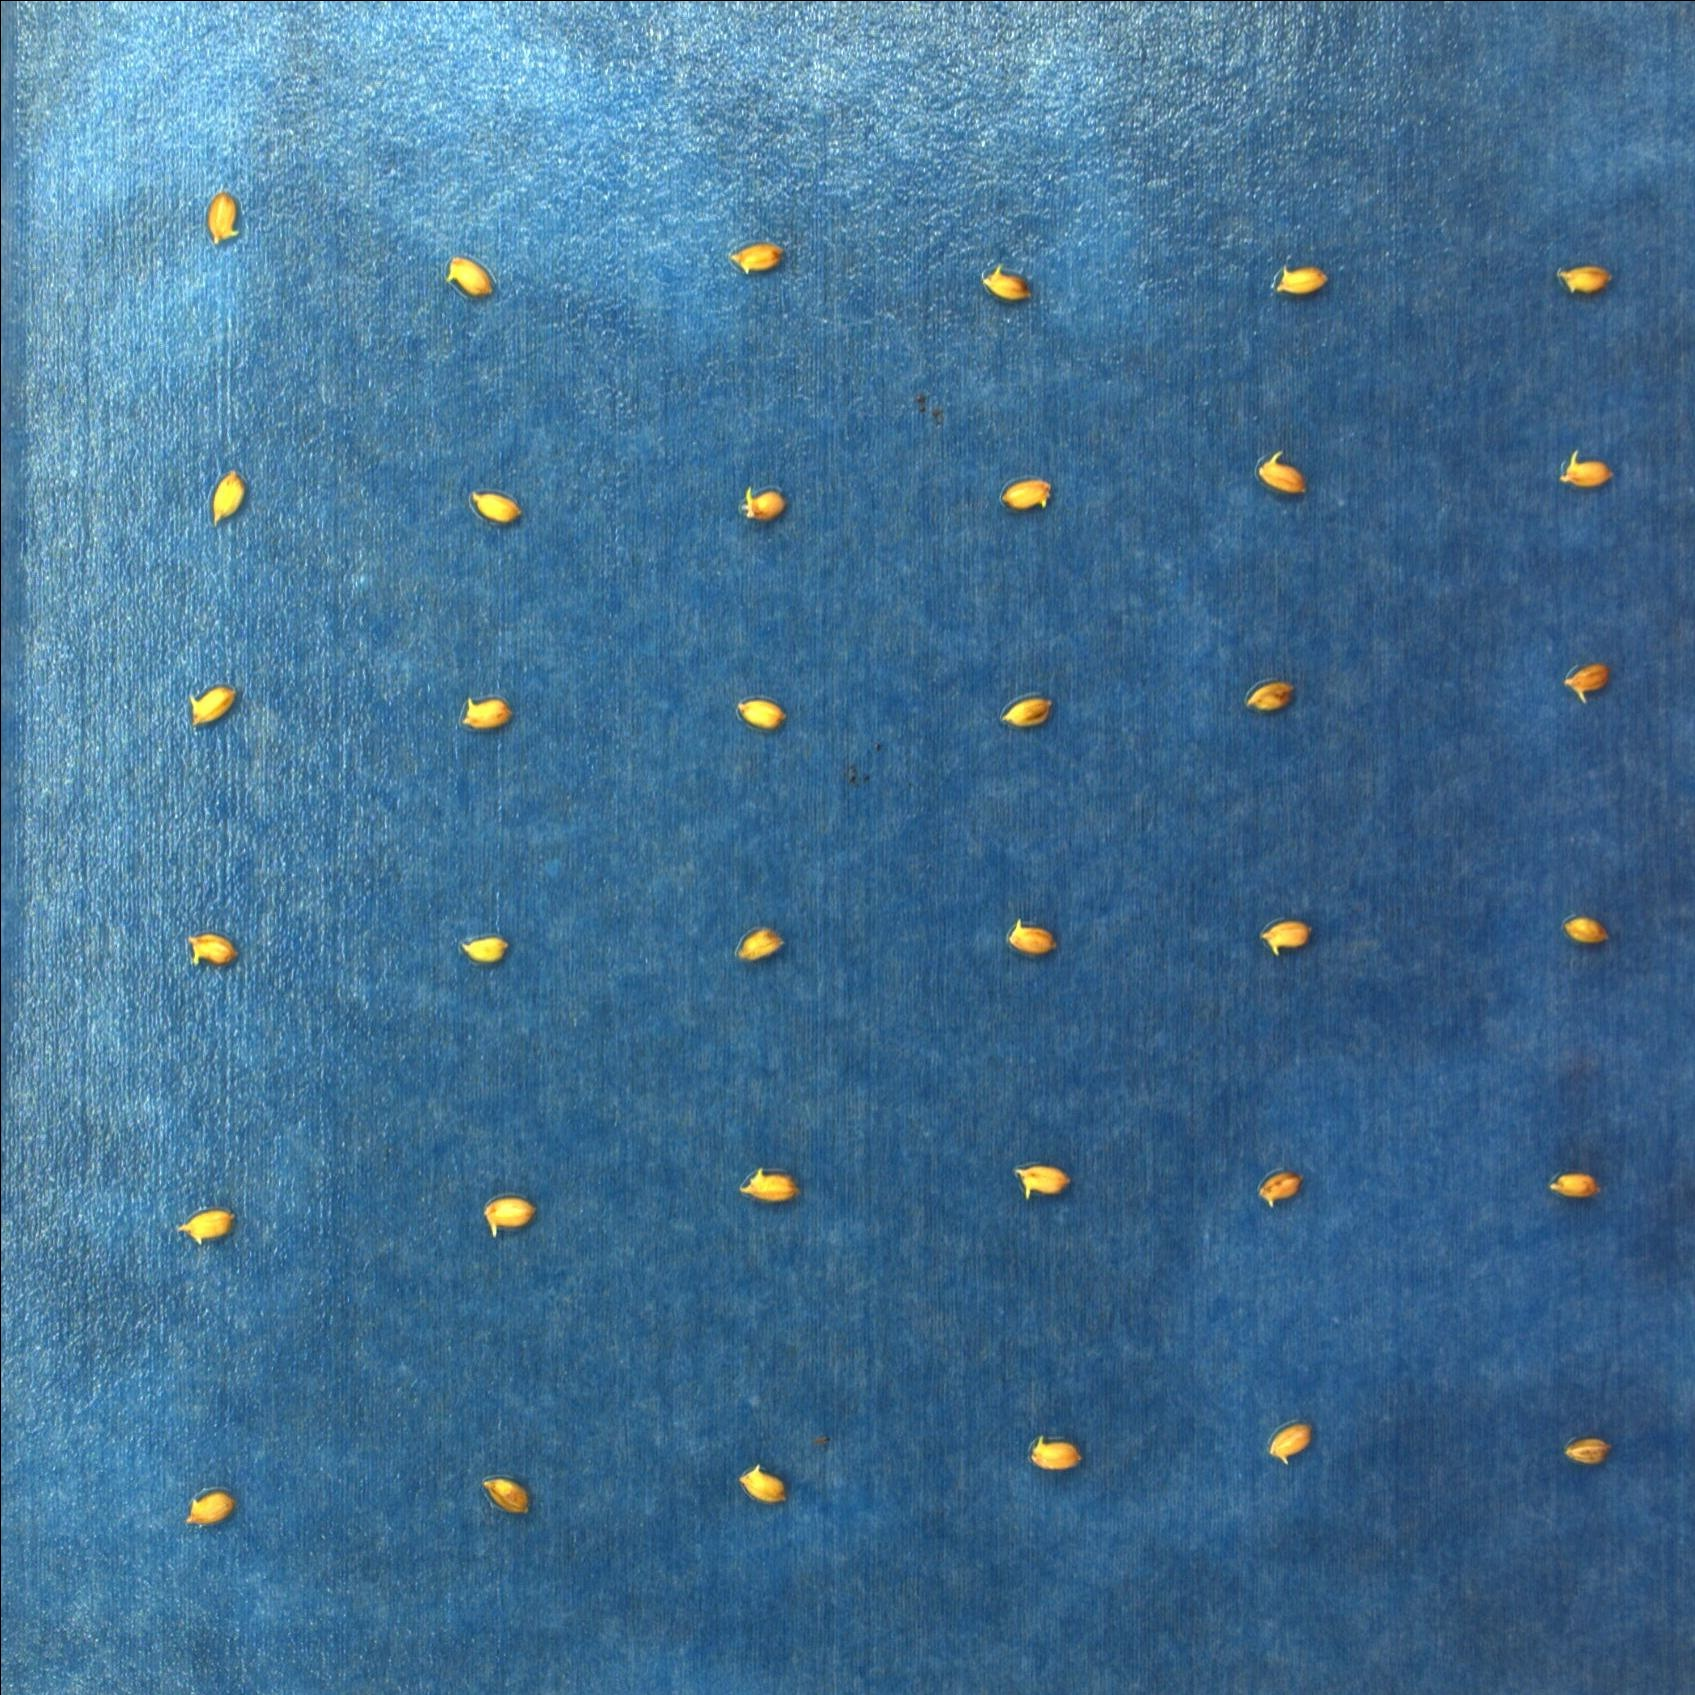not sprout: (1254, 449, 1307, 500), (1555, 449, 1617, 489), (739, 1461, 792, 1506), (1270, 262, 1333, 300), (205, 186, 244, 245), (733, 483, 789, 523), (175, 1209, 236, 1246), (1237, 678, 1299, 714), (1014, 1164, 1076, 1200), (183, 688, 239, 726), (447, 255, 495, 300), (1557, 258, 1617, 293), (995, 473, 1055, 509), (1004, 917, 1062, 955), (726, 237, 785, 273), (979, 267, 1035, 304), (737, 692, 789, 733), (484, 1197, 536, 1237), (737, 1169, 799, 1201), (1562, 1430, 1616, 1467), (1028, 1434, 1087, 1468), (478, 1475, 528, 1515), (1256, 920, 1312, 956), (185, 1490, 236, 1529), (1267, 1420, 1312, 1464), (470, 487, 525, 523), (1562, 661, 1611, 700), (1256, 1170, 1305, 1209), (1544, 1170, 1603, 1201), (213, 469, 244, 525), (464, 931, 512, 967), (736, 925, 779, 962), (463, 698, 512, 730), (1562, 914, 1610, 945), (186, 934, 237, 962), (998, 700, 1051, 726)
